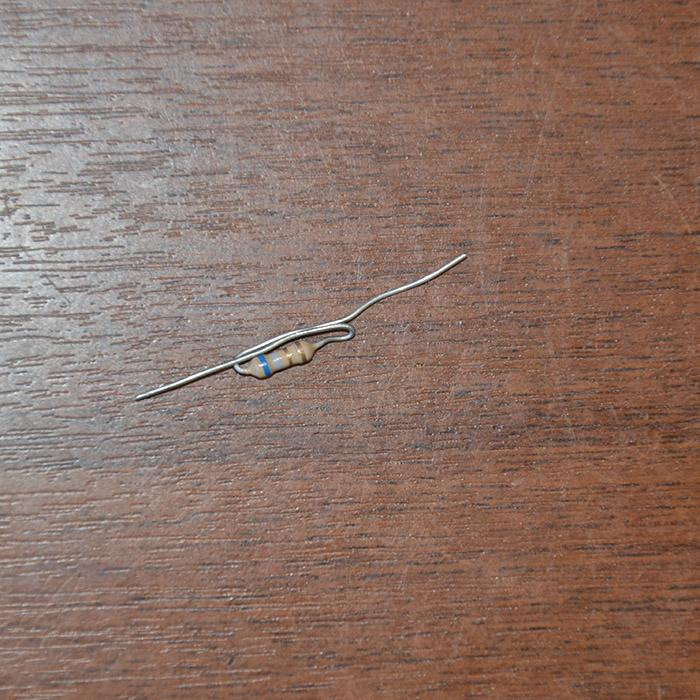resistor: (236, 338, 319, 380)
